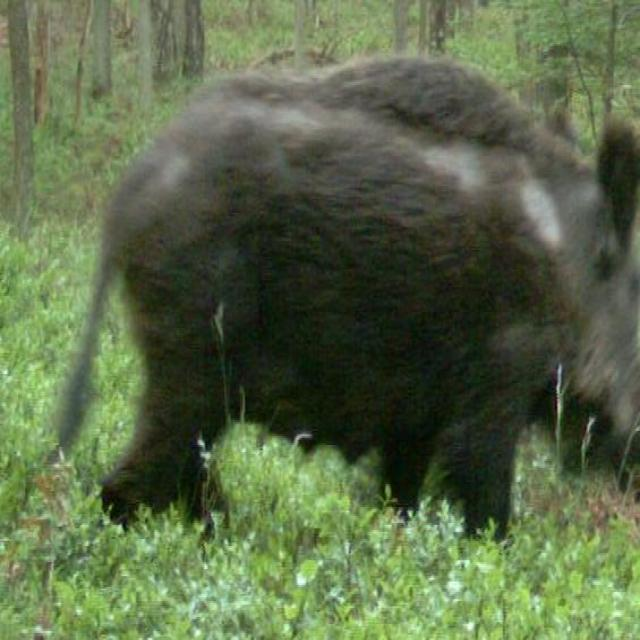pig: (37, 62, 640, 587)
